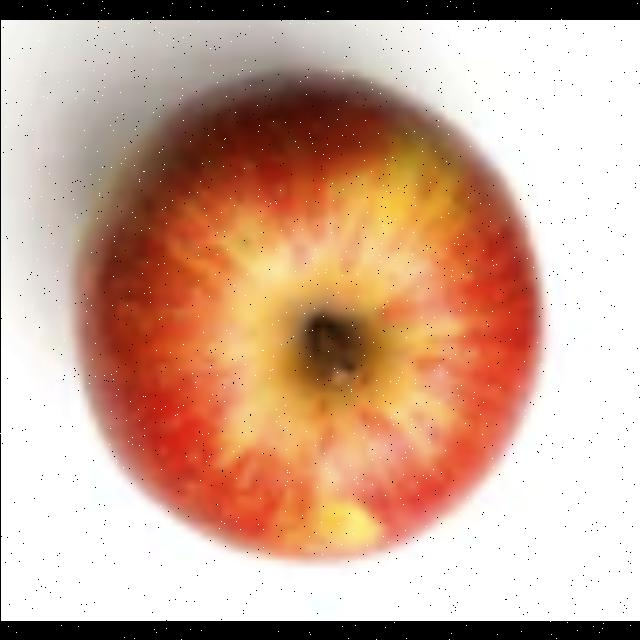Apel Segar: (62, 61, 554, 579)
